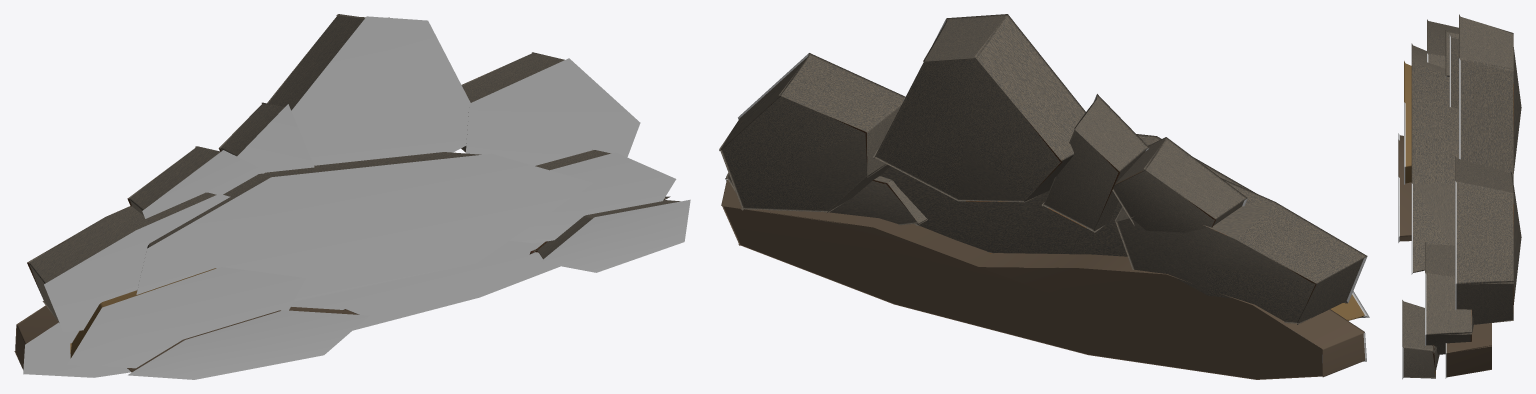
File: SM_GIA_BloodAxeCairnSlabCluster_A01_GameReady.fbx
3 views of the same model, side by side, from view 1: azimuth 30°, elevation 25°; view 2: azimuth 150°, elevation 25°; view 3: azimuth 270°, elevation 25° (orthographic). The views are drawn at different scales.
Parts seen in each view (by area): view 1: SM_GIA_BloodAxeCairnSlabCluster_A01_GameReady_LOD0_GameReady (×11); view 2: SM_GIA_BloodAxeCairnSlabCluster_A01_GameReady_LOD0_GameReady (×9); view 3: SM_GIA_BloodAxeCairnSlabCluster_A01_GameReady_LOD0_GameReady (×11).
Part boxes in pixels (x1,y1,x2,y2): SM_GIA_BloodAxeCairnSlabCluster_A01_GameReady_LOD0_GameReady (×11): (14, 14, 690, 379); SM_GIA_BloodAxeCairnSlabCluster_A01_GameReady_LOD0_GameReady (×9): (719, 14, 1369, 379); SM_GIA_BloodAxeCairnSlabCluster_A01_GameReady_LOD0_GameReady (×11): (1398, 14, 1521, 379).
Size of what is drawn, in the model's own units: 6500 by 34842 by 15792.
